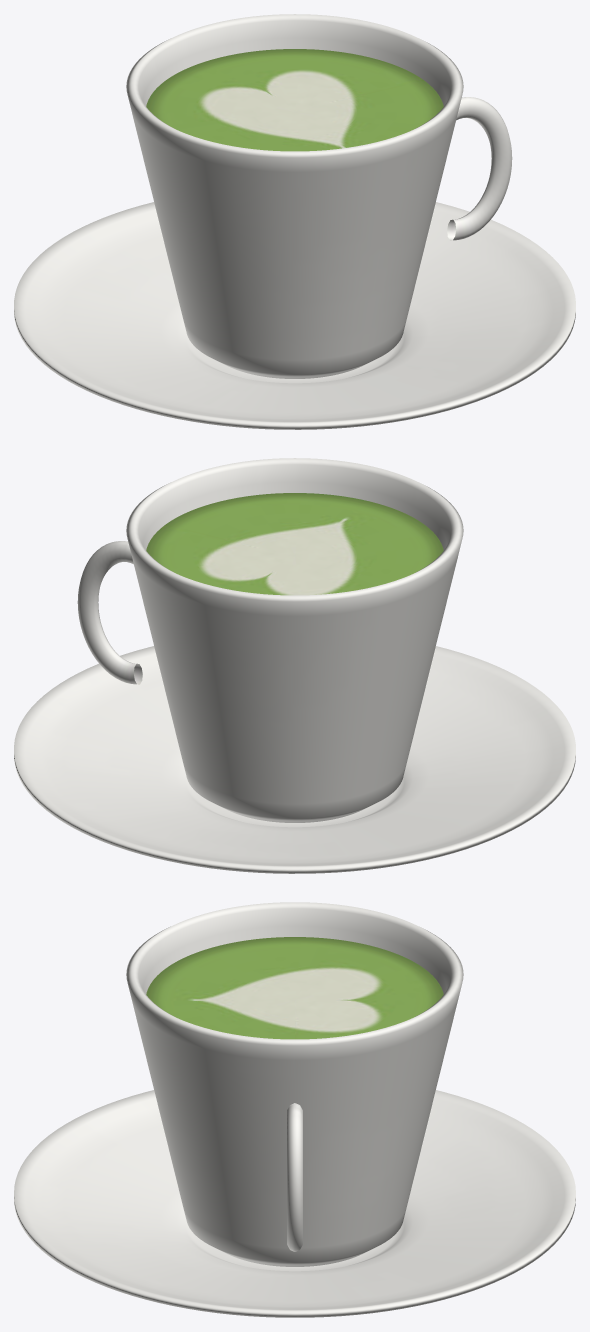
File: matcha-latte.glb
3 renders of one model, top to bottom at view 1: azimuth 30°, elevation 25°; view 2: azimuth 150°, elevation 25°; view 3: azimuth 270°, elevation 25°, orthographic.
Parts seen in each view (by area): view 1: ceramic, satin; view 2: ceramic, satin; view 3: ceramic, satin.
Part boxes in pixels (x1,y1,x2,y2): ceramic: (14, 14, 575, 429); satin: (146, 49, 443, 151); ceramic: (14, 458, 575, 873); satin: (146, 493, 443, 595); ceramic: (14, 902, 575, 1317); satin: (146, 937, 443, 1039).
Bounding box in the file's own units: 0.16 × 0.0852 × 0.16.
2 materials, 2 textured.
